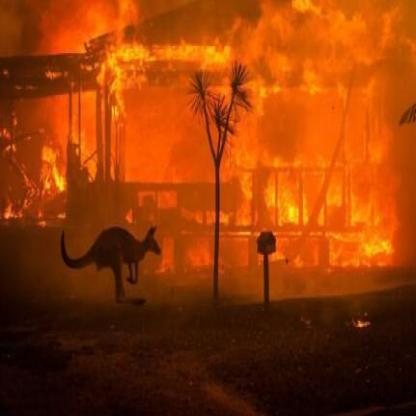fire: (9, 3, 409, 272)
